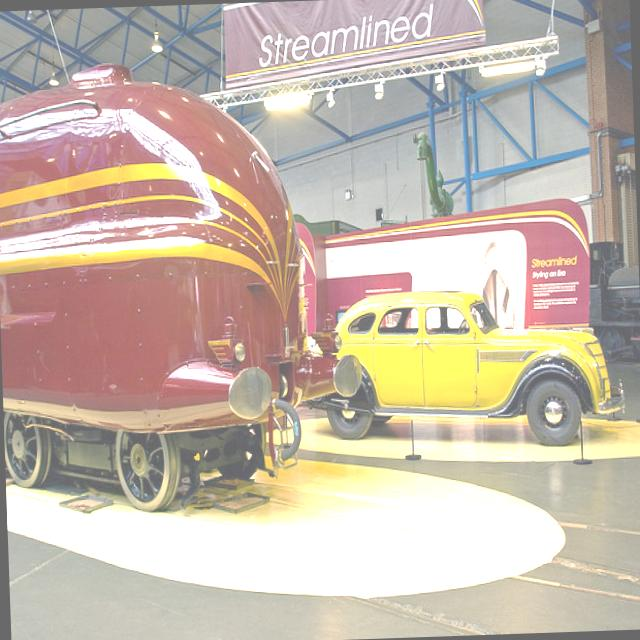Vehicle: (316, 284, 628, 454)
